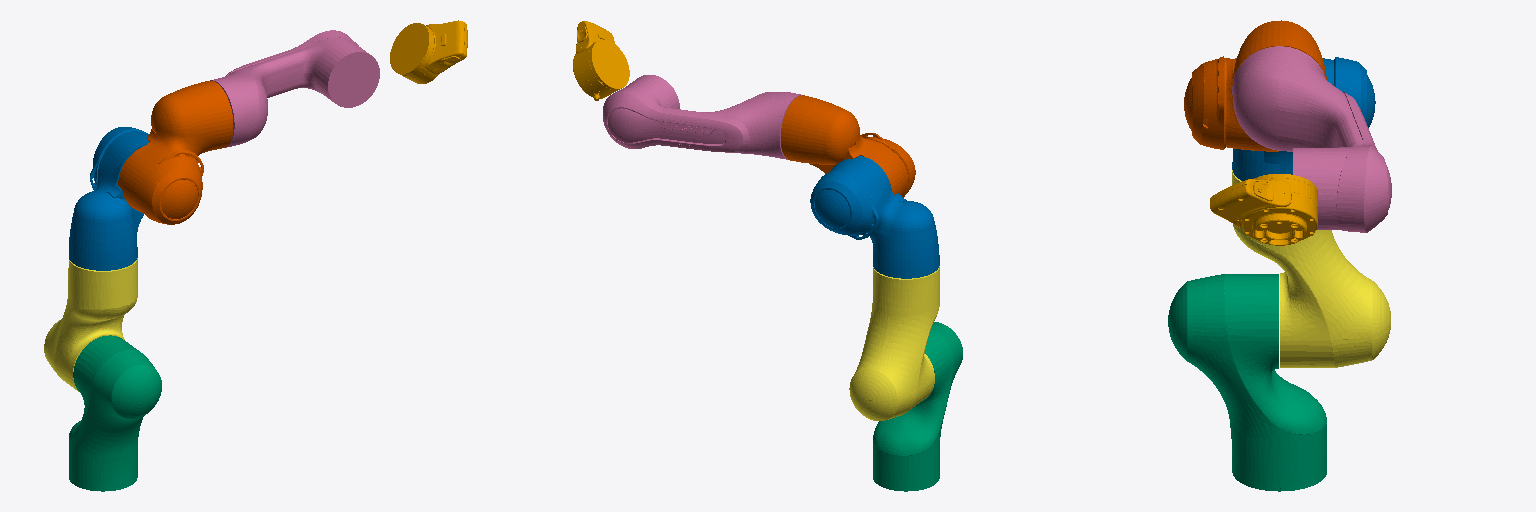
URDF robot description (fr3):
<?xml version="1.0" ?>
<!-- =================================================================================== -->
<!-- |    This document was autogenerated by xacro from https://github.com/frankaemika/franka_description/robots/fr3/fr3.urdf.xacro | -->
<!-- |    EDITING THIS FILE BY HAND IS NOT RECOMMENDED                                 | -->
<!-- =================================================================================== -->
<robot name="fr3">
	<!-- safety_distance: Minimum safety distance in [m] by which the collision volumes are expanded and which is enforced during robot motions -->
	<!-- arm_id: Namespace of the robot arm. Serves to differentiate between arms in case of multiple instances. -->
	<!-- joint_limits: description of the joint limits that comes from a YAML file. Example definition: ${xacro.load_yaml('$(find franka_description)/robots/fr3/joint_limits.yaml')} -->
	<!-- kinematics: description of the kinematics that comes from a YAML file. Example definition: ${xacro.load_yaml('$(find franka_description)/robots/fr3/kinematics.yaml')} -->
	<!-- inertials: description of the inertials that comes from a YAML file. Example definition: ${xacro.load_yaml('$(find franka_description)/robots/fr3/inertials.yaml')} -->
	<!-- dynamics: description of the dynamics that comes from a YAML file. Example definition: ${xacro.load_yaml('$(find franka_description)/robots/fr3/dynamics.yaml')} -->
	<link name="base">
	</link>
	<joint name="base_joint" type="fixed">
		<parent link="base" />
		<child link="fr3_link0" />
		<origin rpy="0 0 0" xyz="0 0 0" />
	</joint>
	<!-- sub-link defining detailed meshes for collision with environment -->
	<link name="fr3_link0">
		<visual name="fr3_link0_visual">
			<geometry>
				<mesh filename="/meshes/visual/link0.obj" />
			</geometry>
		</visual>
		<collision name="fr3_link0_collision">
			<geometry>
				<mesh filename="meshes/collision/link0.stl" />
			</geometry>
		</collision>
		<inertial>
			<origin rpy="0 0 0" xyz="-0.0172 0.0004 0.0745" />
			<mass value="2.3966" />
			<inertia ixx="0.009" ixy="0.0" ixz="0.002" iyy="0.0115" iyz="0.0" izz="0.0085" />
		</inertial>
	</link>
	<!-- sub-link defining detailed meshes for collision with environment -->
	<link name="fr3_link1">
		<visual name="fr3_link1_visual">
			<geometry>
				<mesh filename="meshes/visual/link1.obj" />
			</geometry>
		</visual>
		<collision name="fr3_link1_collision">
			<geometry>
				<mesh filename="meshes/collision/link1.stl" />
			</geometry>
		</collision>
		<inertial>
			<origin rpy="0 0 0" xyz="0.0000004128 -0.0181251324 -0.0386035970" />
			<mass value="2.9274653454" />
			<inertia ixx="0.023927316485107913" ixy="1.3317903455714081e-05" ixz="-0.00011404774918616684" iyy="0.0224821613275756" iyz="-0.0019950320628240115" izz="0.006350098258530016" />
		</inertial>
	</link>
	<joint name="fr3_joint1" type="revolute">
		<origin rpy="0 0 0" xyz="0 0 0.333" />
		<parent link="fr3_link0" />
		<child link="fr3_link1" />
		<axis xyz="0 0 1" />
		<limit effort="87.0" lower="-2.7437" upper="2.7437" velocity="2.62" />
		<safety_controller k_position="100.0" k_velocity="40.0" soft_lower_limit="-2.7437" soft_upper_limit="2.7437" />
		<dynamics D="1" K="7000" damping="0.003" friction="0.2" mu_coulomb="0" mu_viscous="16" />
	</joint>
	<!-- sub-link defining detailed meshes for collision with environment -->
	<link name="fr3_link2">
		<visual name="fr3_link2_visual">
			<geometry>
				<mesh filename="meshes/visual/link2.obj" />
			</geometry>
		</visual>
		<collision name="fr3_link2_collision">
			<geometry>
				<mesh filename="meshes/collision/link2.stl" />
			</geometry>
		</collision>
		<inertial>
			<origin rpy="0 0 0" xyz="0.0031828864 -0.0743221644 0.0088146084" />
			<mass value="2.9355370338" />
			<inertia ixx="0.041938946257609425" ixy="0.00020257331521090626" ixz="0.004077784227179924" iyy="0.02514514885014724" iyz="-0.0042252158006570156" izz="0.06170214472888839" />
		</inertial>
	</link>
	<joint name="fr3_joint2" type="revolute">
		<origin rpy="-1.570796326794897 0 0" xyz="0 0 0" />
		<parent link="fr3_link1" />
		<child link="fr3_link2" />
		<axis xyz="0 0 1" />
		<limit effort="87.0" lower="-1.7837" upper="1.7837" velocity="2.62" />
		<safety_controller k_position="100.0" k_velocity="40.0" soft_lower_limit="-1.7837" soft_upper_limit="1.7837" />
		<dynamics D="1" K="7000" damping="0.003" friction="0.2" mu_coulomb="0" mu_viscous="16" />
	</joint>
	<!-- sub-link defining detailed meshes for collision with environment -->
	<link name="fr3_link3">
		<visual name="fr3_link3_visual">
			<geometry>
				<mesh filename="meshes/visual/link3.obj" />
			</geometry>
		</visual>
		<collision name="fr3_link3_collision">
			<geometry>
				<mesh filename="meshes/collision/link3.stl" />
			</geometry>
		</collision>
		<inertial>
			<origin rpy="0 0 0" xyz="0.0407015686 -0.0048200565 -0.0289730823" />
			<mass value="2.2449013699" />
			<inertia ixx="0.02410142547240885" ixy="0.002404694559042109" ixz="-0.002856269270114313" iyy="0.01974053266708178" iyz="-0.002104212683891874" izz="0.019044494482244823" />
		</inertial>
	</link>
	<joint name="fr3_joint3" type="revolute">
		<origin rpy="1.570796326794897 0 0" xyz="0 -0.316 0" />
		<parent link="fr3_link2" />
		<child link="fr3_link3" />
		<axis xyz="0 0 1" />
		<limit effort="87.0" lower="-2.9007" upper="2.9007" velocity="2.62" />
		<safety_controller k_position="100.0" k_velocity="40.0" soft_lower_limit="-2.9007" soft_upper_limit="2.9007" />
		<dynamics D="1" K="7000" damping="0.003" friction="0.2" mu_coulomb="0" mu_viscous="16" />
	</joint>
	<!-- sub-link defining detailed meshes for collision with environment -->
	<link name="fr3_link4">
		<visual name="fr3_link4_visual">
			<geometry>
				<mesh filename="meshes/visual/link4.obj" />
			</geometry>
		</visual>
		<collision name="fr3_link4_collision">
			<geometry>
				<mesh filename="meshes/collision/link4.stl" />
			</geometry>
		</collision>
		<inertial>
			<origin rpy="0 0 0" xyz="-0.0459100965 0.0630492960 -0.0085187868" />
			<mass value="2.6155955791" />
			<inertia ixx="0.03452998321913202" ixy="0.01322552265982813" ixz="0.01015142998484113" iyy="0.028881621933049058" iyz="-0.0009762833870704552" izz="0.04125471171146641" />
		</inertial>
	</link>
	<joint name="fr3_joint4" type="revolute">
		<origin rpy="1.570796326794897 0 0" xyz="0.0825 0 0" />
		<parent link="fr3_link3" />
		<child link="fr3_link4" />
		<axis xyz="0 0 1" />
		<limit effort="87.0" lower="-3.0421" upper="-0.1518" velocity="2.62" />
		<safety_controller k_position="100.0" k_velocity="40.0" soft_lower_limit="-3.0421" soft_upper_limit="-0.1518" />
		<dynamics D="1" K="7000" damping="0.003" friction="0.2" mu_coulomb="0" mu_viscous="16" />
	</joint>
	<!-- sub-link defining detailed meshes for collision with environment -->
	<link name="fr3_link5">
		<visual name="fr3_link5_visual">
			<geometry>
				<mesh filename="meshes/visual/link5.obj" />
			</geometry>
		</visual>
		<collision name="fr3_link5_collision">
			<geometry>
				<mesh filename="meshes/collision/link5.stl" />
			</geometry>
		</collision>
		<inertial>
			<origin rpy="0 0 0" xyz="-0.0016039605 0.0292536262 -0.0972965990" />
			<mass value="2.3271207594" />
			<inertia ixx="0.051610278463662895" ixy="-0.005715173387783472" ixz="-0.0035673167625872135" iyy="0.04787729713371481" iyz="0.010673985108535986" izz="0.016423625579357254" />
		</inertial>
	</link>
	<joint name="fr3_joint5" type="revolute">
		<origin rpy="-1.570796326794897 0 0" xyz="-0.0825 0.384 0" />
		<parent link="fr3_link4" />
		<child link="fr3_link5" />
		<axis xyz="0 0 1" />
		<limit effort="12.0" lower="-2.8065" upper="2.8065" velocity="5.26" />
		<safety_controller k_position="100.0" k_velocity="40.0" soft_lower_limit="-2.8065" soft_upper_limit="2.8065" />
		<dynamics D="1" K="7000" damping="0.003" friction="0.2" mu_coulomb="0" mu_viscous="16" />
	</joint>
	<!-- sub-link defining detailed meshes for collision with environment -->
	<link name="fr3_link6">
		<visual name="fr3_link6_visual">
			<geometry>
				<mesh filename="meshes/visual/link6.obj" />
			</geometry>
		</visual>
		<collision name="fr3_link6_collision">
			<geometry>
				<mesh filename="meshes/collision/link6.stl" />
			</geometry>
		</collision>
		<inertial>
			<origin rpy="0 0 0" xyz="0.0597131221 -0.0410294666 -0.0101692726" />
			<mass value="1.8170376524" />
			<inertia ixx="0.005412333594383447" ixy="0.006193456360285834" ixz="0.0014219289306117652" iyy="0.014058329545509979" iyz="-0.0013140753741120031" izz="0.016080817924212554" />
		</inertial>
	</link>
	<joint name="fr3_joint6" type="revolute">
		<origin rpy="1.570796326794897 0 0" xyz="0 0 0" />
		<parent link="fr3_link5" />
		<child link="fr3_link6" />
		<axis xyz="0 0 1" />
		<limit effort="12.0" lower="0.5445" upper="4.5169" velocity="4.18" />
		<safety_controller k_position="100.0" k_velocity="40.0" soft_lower_limit="0.5445" soft_upper_limit="4.5169" />
		<dynamics D="1" K="7000" damping="0.003" friction="0.2" mu_coulomb="0" mu_viscous="16" />
	</joint>
	<!-- sub-link defining detailed meshes for collision with environment -->
	<link name="fr3_link7">
		<visual name="fr3_link7_visual">
			<geometry>
				<mesh filename="meshes/visual/link7.obj" />
			</geometry>
		</visual>
		<collision name="fr3_link7_collision">
			<geometry>
				<mesh filename="meshes/collision/link7.stl" />
			</geometry>
		</collision>
		<inertial>
			<origin rpy="0 0 0" xyz="0.0045225817 0.0086261921 -0.0161633251" />
			<mass value="0.6271432862" />
			<inertia ixx="0.00021092389150104718" ixy="-2.433299114461931e-05" ixz="4.564480393778983e-05" iyy="0.00017718568002411474" iyz="8.744070223226438e-05" izz="5.993190599659971e-05" />
		</inertial>
	</link>
	<joint name="fr3_joint7" type="revolute">
		<origin rpy="1.570796326794897 0 0" xyz="0.088 0 0" />
		<parent link="fr3_link6" />
		<child link="fr3_link7" />
		<axis xyz="0 0 1" />
		<limit effort="12.0" lower="-3.0159" upper="3.0159" velocity="5.26" />
		<safety_controller k_position="100.0" k_velocity="40.0" soft_lower_limit="-3.0159" soft_upper_limit="3.0159" />
		<dynamics D="1" K="7000" damping="0.003" friction="0.2" mu_coulomb="0" mu_viscous="16" />
	</joint>
	<link name="fr3_link8">
		<inertial>
			<mass value="0.01" />
			<inertia ixx="0.01" ixy="0" ixz="0" iyy="0.01" iyz="0" izz="0.01" />
		</inertial>
	</link>
	<joint name="fr3_joint8" type="fixed">
		<origin rpy="0 0 0" xyz="0 0 0.107" />
		<parent link="fr3_link7" />
		<child link="fr3_link8" />
	</joint>
</robot>

--- Render facts (derived) ---
3 views of the same robot in one strip: view 1: azimuth 30°, elevation 25°; view 2: azimuth 150°, elevation 25°; view 3: azimuth 270°, elevation 25° (orthographic).
Model fr3 with 10 links and 9 joints (7 revolute, 2 fixed), rooted at base, posed joints at zero except 2 at the middle of their limits (fr3_joint4 = -1.6, fr3_joint6 = 2.53).
Visible links, largest first — view 1: fr3_link1, fr3_link4, fr3_link5, fr3_link3, fr3_link2, fr3_link7; view 2: fr3_link5, fr3_link2, fr3_link3, fr3_link1, fr3_link4, fr3_link7; view 3: fr3_link1, fr3_link5, fr3_link2, fr3_link4, fr3_link7, fr3_link3.
Link boxes in pixels (left/top/right/bottom): fr3_link1: left=69, top=335, right=161, bottom=491; fr3_link4: left=118, top=81, right=233, bottom=224; fr3_link5: left=210, top=30, right=379, bottom=147; fr3_link3: left=69, top=127, right=149, bottom=270; fr3_link2: left=44, top=258, right=137, bottom=391; fr3_link7: left=390, top=20, right=467, bottom=83; fr3_link5: left=603, top=75, right=800, bottom=159; fr3_link2: left=849, top=266, right=939, bottom=420; fr3_link3: left=810, top=156, right=939, bottom=278; fr3_link1: left=873, top=322, right=962, bottom=491; fr3_link4: left=781, top=95, right=915, bottom=197; fr3_link7: left=573, top=21, right=629, bottom=100; fr3_link1: left=1168, top=274, right=1326, bottom=491; fr3_link5: left=1232, top=46, right=1391, bottom=232; fr3_link2: left=1232, top=170, right=1390, bottom=367; fr3_link4: left=1184, top=20, right=1326, bottom=151; fr3_link7: left=1210, top=174, right=1317, bottom=245; fr3_link3: left=1232, top=57, right=1375, bottom=180.
Bounding box of the posed robot: 0.7011 × 0.2593 × 0.6678 m (x, y, z).
6 mesh visuals loaded from 7 distinct referenced files (6 OBJ); not drawn: 1 (reference not matched to a file when rendering), 1 (reference in a form the renderer does not follow; not among the files counted above).